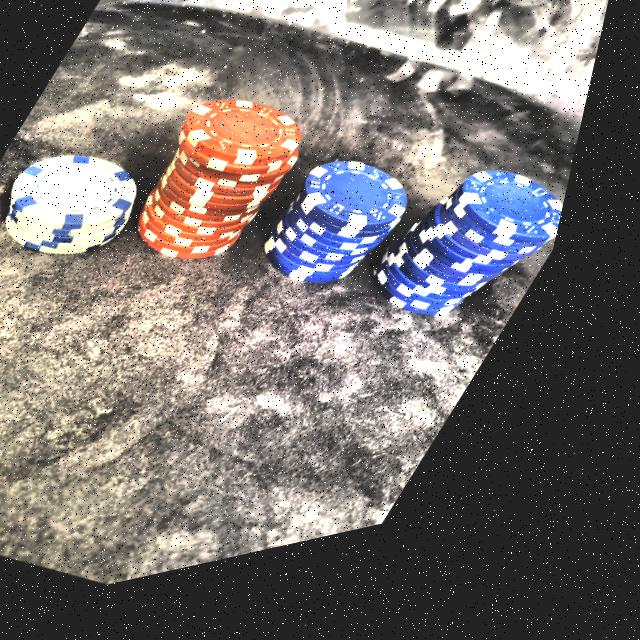Chip: (109, 57, 349, 315), (358, 139, 596, 392), (251, 133, 457, 341), (0, 110, 189, 306)
